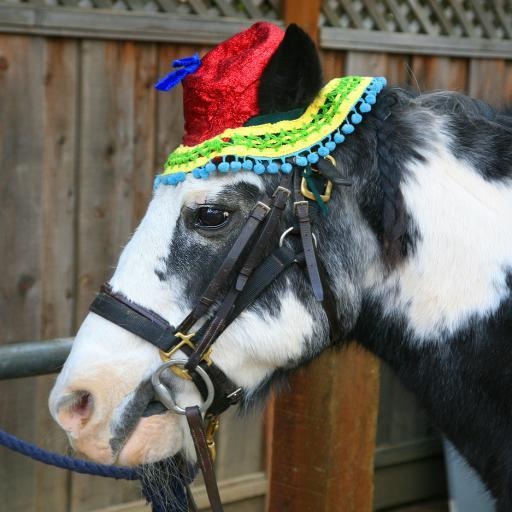horse: (45, 82, 511, 511)
